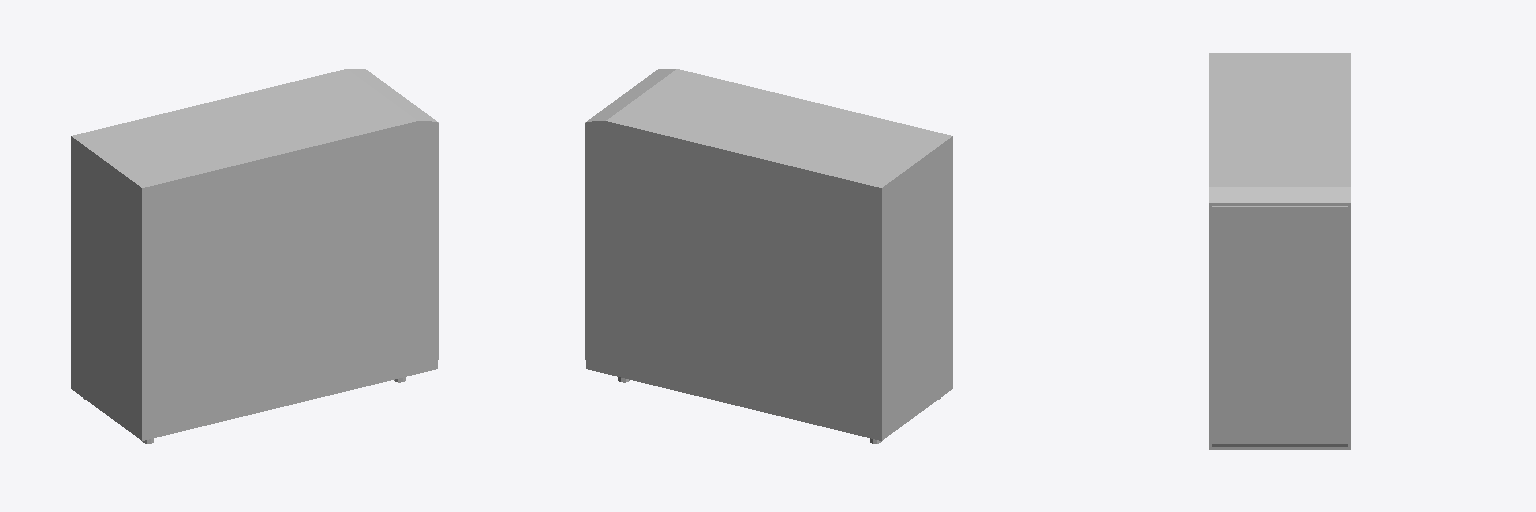
The model's file is Desktop.obj.
3 views of the same model, side by side, from view 1: azimuth 30°, elevation 25°; view 2: azimuth 150°, elevation 25°; view 3: azimuth 270°, elevation 25° (orthographic).
Bounding box in the file's own units: 0.5559 × 0.4636 × 0.23.